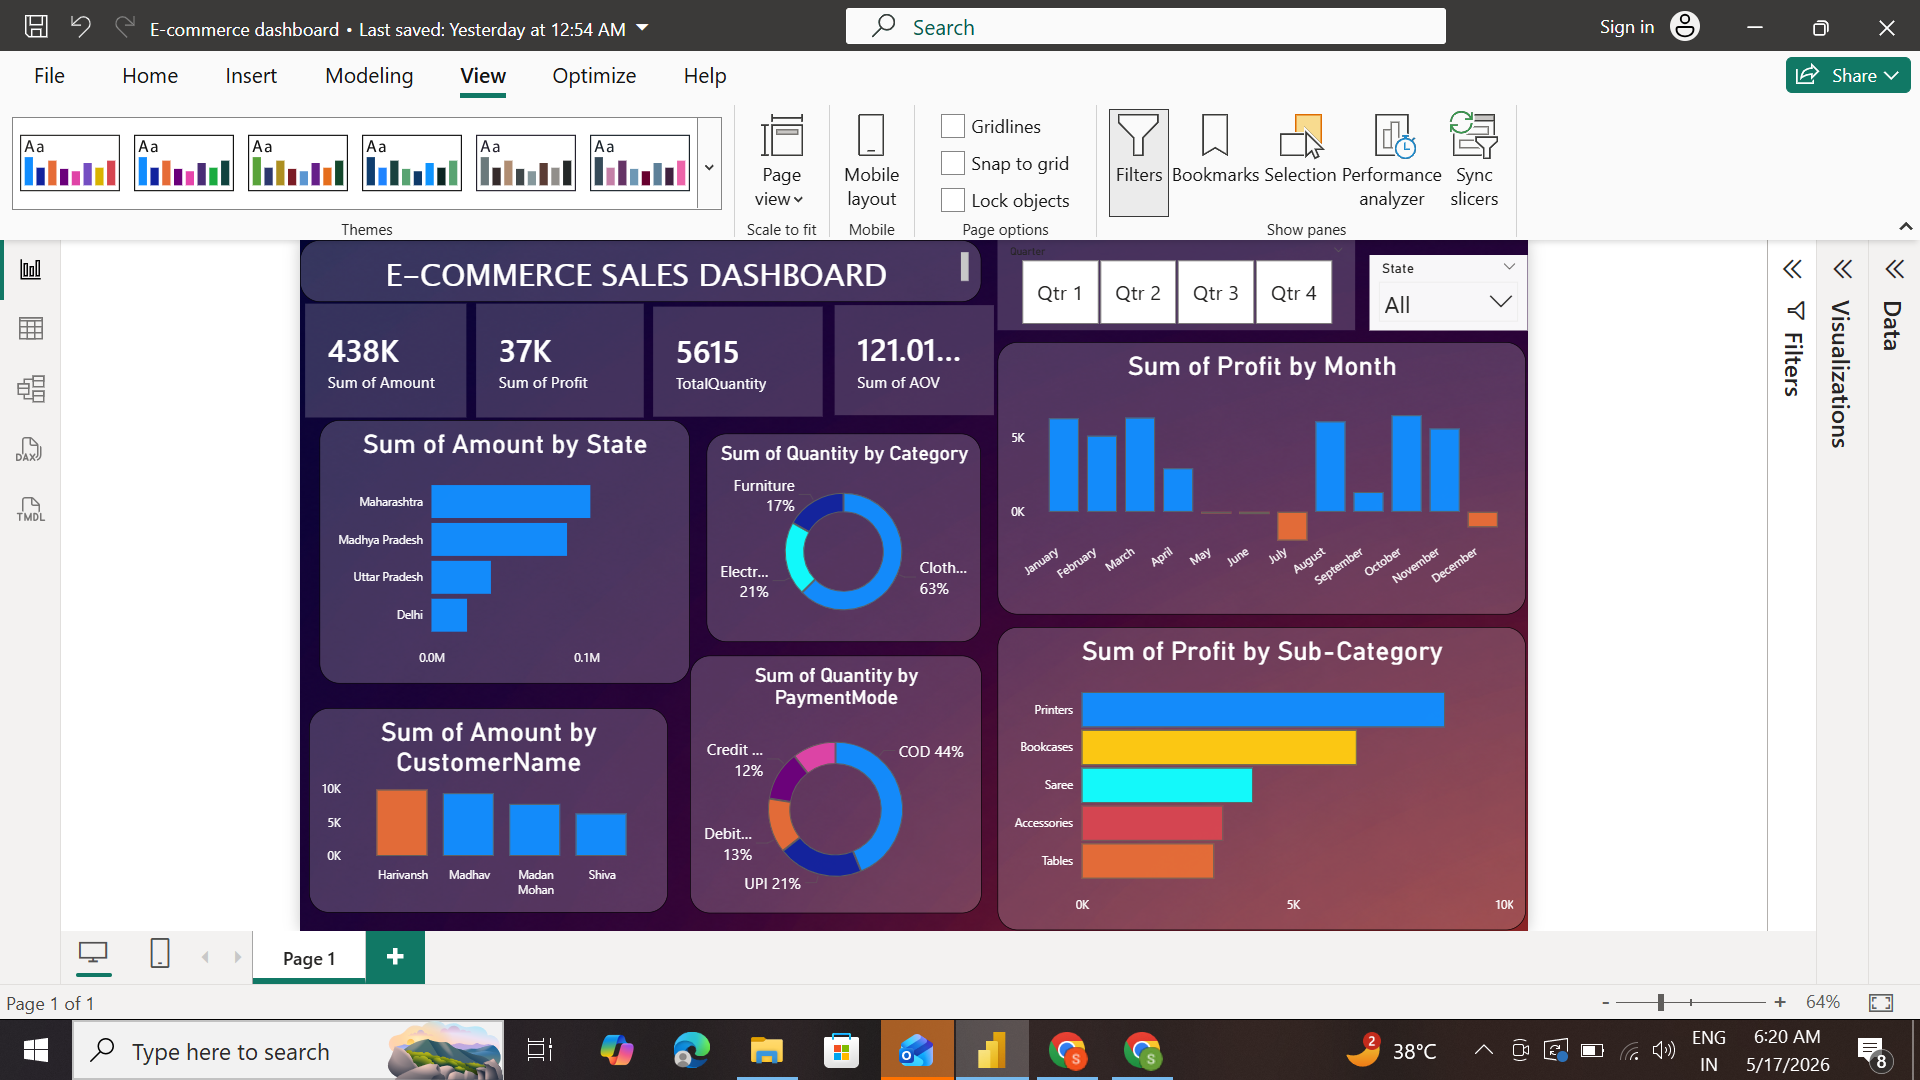

The page's visual inventory and layout, read from the dashboard file:
{"tool":"powerbi","page":{"name":"Page 1","canvas":[1280,720],"ordinal":0},"visuals":[{"type":"textbox","box":[0,0,709.8,64.7],"z":0},{"type":"columnChart","fields":{"Category":["Orders.Order Date.Variation.Date Hierarchy.Month"],"Y":["Sum(Details.Profit)"]},"box":[727.5,105.9,551,284.3],"z":1000},{"type":"donutChart","fields":{"Category":["Details.Category"],"Y":["Sum(Details.Quantity)"]},"box":[423.5,202,286.3,217.6],"z":2000},{"type":"donutChart","fields":{"Category":["Details.PaymentMode"],"Y":["Sum(Details.Quantity)"]},"box":[405.9,433.3,303.9,268.6],"z":3000},{"type":"cardVisual","fields":{"Data":["Sum(Details.Amount)"]},"box":[0,61,178.2,129.7],"z":4000},{"type":"cardVisual","fields":{"Data":["Sum(Details.Profit)"]},"box":[178.2,61,186,129.7],"z":5000},{"type":"cardVisual","fields":{"Data":["Details.TotalQuantity"]},"box":[362.6,64.1,187.6,125],"z":6000},{"type":"cardVisual","fields":{"Data":["Sum(Details.AOV)"]},"box":[551,62.7,176.5,125.5],"z":7000},{"type":"barChart","fields":{"Category":["Details.Sub-Category"],"Y":["Sum(Details.Profit)"]},"box":[727.5,403.9,551,315.7],"z":8000},{"type":"barChart","fields":{"Category":["Orders.State"],"Y":["Sum(Details.Amount)"]},"box":[19.6,188.2,386.3,274.5],"z":9000},{"type":"columnChart","fields":{"Category":["Orders.CustomerName"],"Y":["Sum(Details.Amount)"]},"box":[9.4,487.6,374.2,213.5],"z":10000},{"type":"slicer","fields":{"Values":["Orders.Order Date.Variation.Date Hierarchy.Quarter"]},"box":[727.5,0,372.5,94.1],"z":11000},{"type":"slicer","fields":{"Values":["Orders.State"]},"box":[1113.7,15.7,164.7,78.4],"z":12000}]}

Visuals, with their boxes on the page's 1280x720 design canvas (x1, y1, x2, y2). These are canvas units, not pixel positions in the 1920x1080 screenshot, which may show the page scaled, cropped or inside an application window:
textbox: detection(0, 0, 710, 65)
columnChart - Orders.Order Date.Variation.Date Hierarchy.Month x Sum(Details.Profit): detection(728, 106, 1278, 390)
donutChart - Details.Category x Sum(Details.Quantity): detection(424, 202, 710, 420)
donutChart - Details.PaymentMode x Sum(Details.Quantity): detection(406, 433, 710, 702)
cardVisual - Sum(Details.Amount): detection(0, 61, 178, 191)
cardVisual - Sum(Details.Profit): detection(178, 61, 364, 191)
cardVisual - Details.TotalQuantity: detection(363, 64, 550, 189)
cardVisual - Sum(Details.AOV): detection(551, 63, 728, 188)
barChart - Details.Sub-Category x Sum(Details.Profit): detection(728, 404, 1278, 720)
barChart - Orders.State x Sum(Details.Amount): detection(20, 188, 406, 463)
columnChart - Orders.CustomerName x Sum(Details.Amount): detection(9, 488, 384, 701)
slicer - Orders.Order Date.Variation.Date Hierarchy.Quarter: detection(728, 0, 1100, 94)
slicer - Orders.State: detection(1114, 16, 1278, 94)
